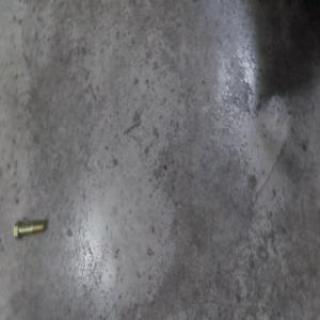Bolttrack_idkeyframe: (15, 217, 46, 241)
